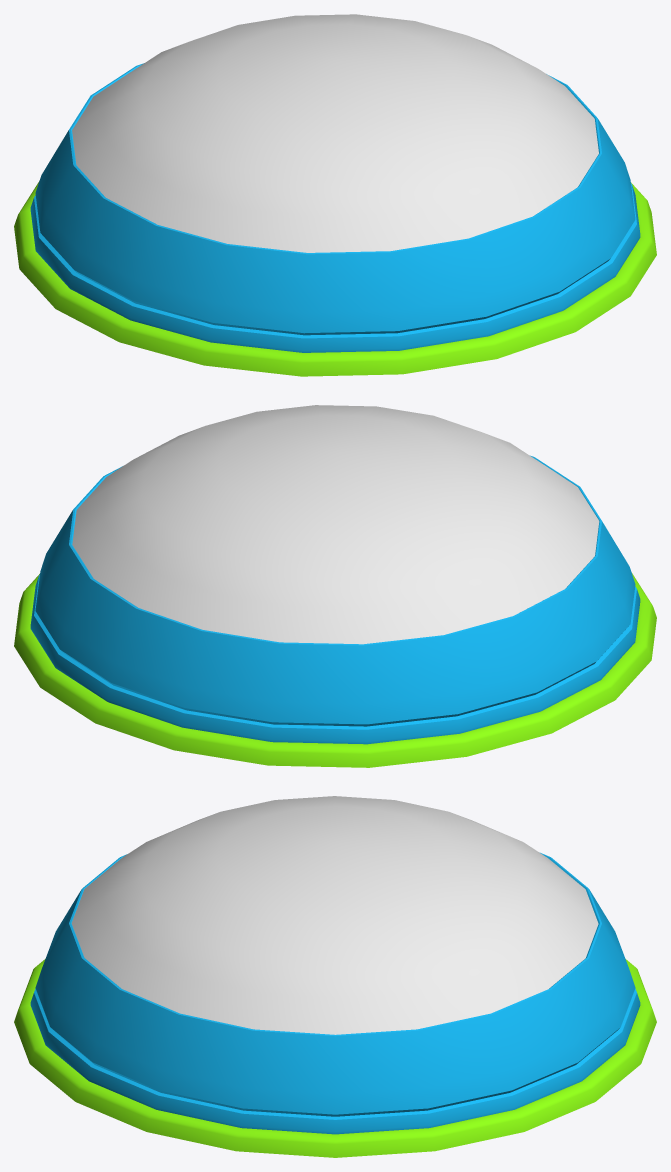
File: Manej.FBX
3 renders of one model, top to bottom at view 1: azimuth 30°, elevation 25°; view 2: azimuth 150°, elevation 25°; view 3: azimuth 270°, elevation 25°, orthographic.
Visible parts, largest first — view 1: Cylinder005, Tube001; view 2: Cylinder005, Tube001; view 3: Cylinder005, Tube001.
Boxes of the visible parts, box(x1,y1,x2,y2) form: Cylinder005: box(72, 14, 598, 252); Tube001: box(14, 63, 656, 376); Cylinder005: box(72, 405, 599, 644); Tube001: box(14, 455, 656, 767); Cylinder005: box(71, 796, 598, 1034); Tube001: box(14, 852, 656, 1157).
Size of the model in its own units: 328 by 100 by 328.
